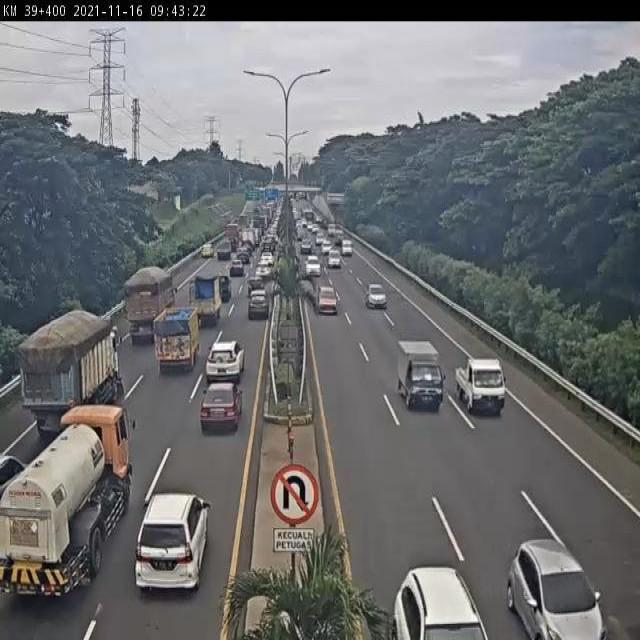car: (506, 537, 608, 640), (386, 560, 495, 640), (137, 489, 210, 592), (395, 336, 442, 415), (454, 351, 503, 417), (200, 381, 246, 435), (203, 339, 244, 389), (311, 281, 335, 315), (247, 289, 267, 327), (364, 280, 387, 309), (215, 268, 231, 304), (194, 240, 216, 263), (247, 278, 262, 306), (229, 252, 244, 279), (253, 269, 265, 292), (260, 253, 271, 271), (308, 258, 318, 274)
small truck: (154, 304, 200, 373), (183, 272, 220, 333), (213, 243, 226, 264)
truck-m-: (0, 410, 142, 606), (21, 305, 123, 435), (125, 268, 177, 347)
